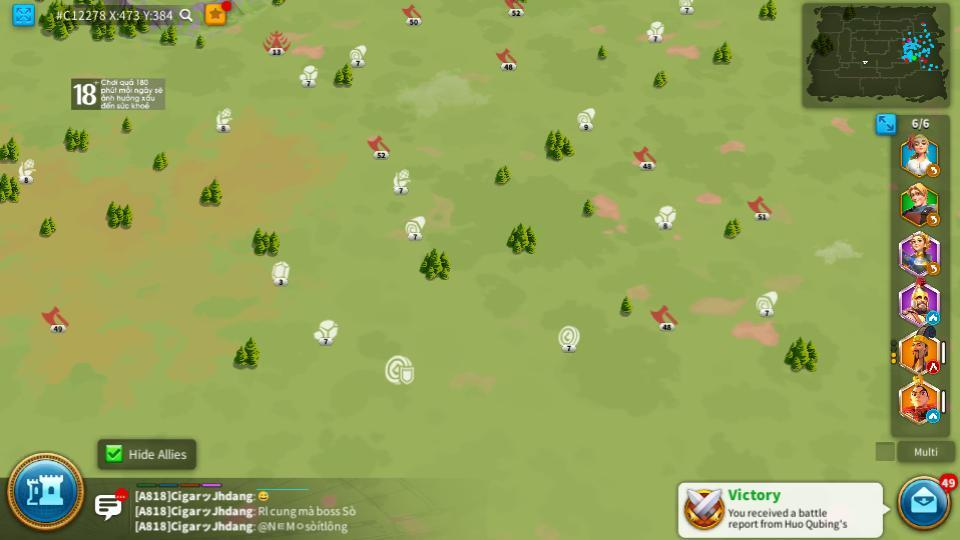gem-z-out: (270, 261, 290, 284)
march_attacking: (926, 362, 940, 373)
march_idle: (925, 410, 941, 422), (927, 312, 940, 324)
march_returning: (926, 164, 941, 176), (925, 263, 938, 274), (927, 216, 941, 226)
